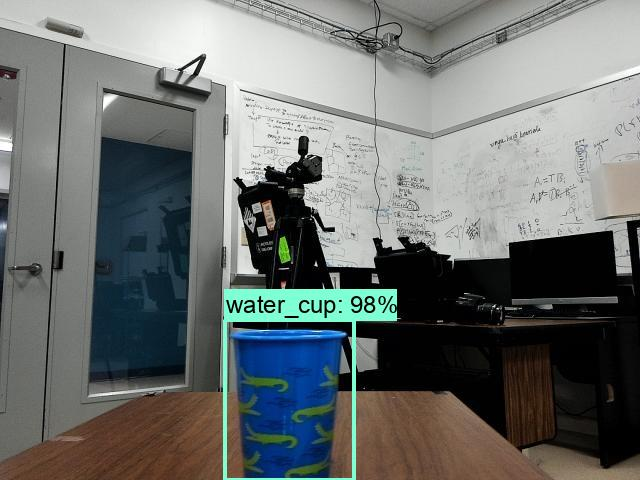water_cup: (227, 320, 356, 480)
